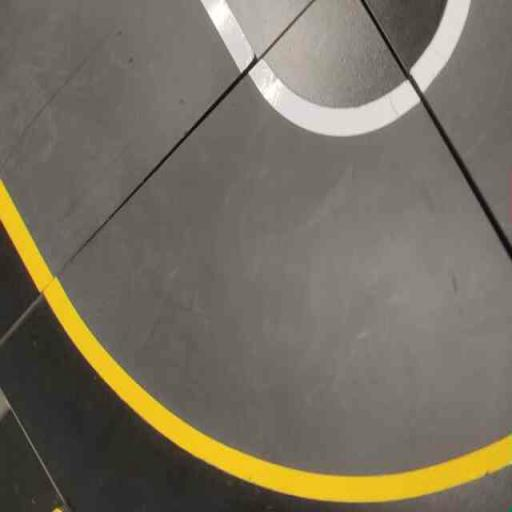right: (47, 37, 512, 503)
